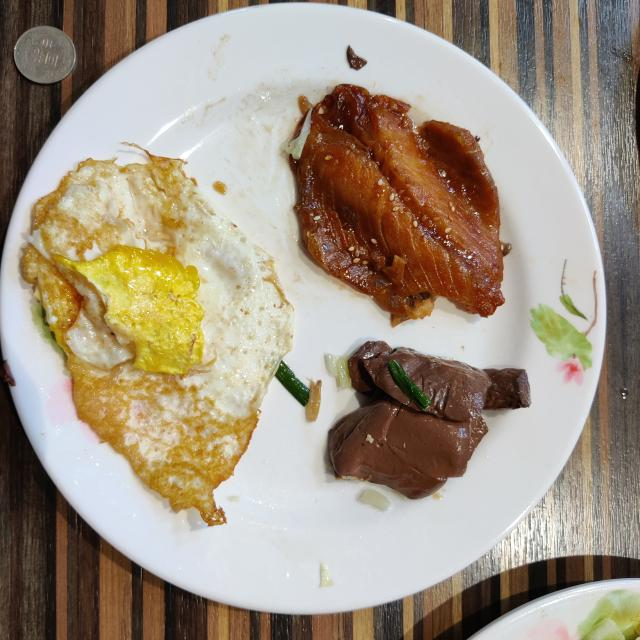Kabayaki sea bream fillet: (290, 85, 505, 324)
coin: (14, 26, 76, 84)
pig blood curd: (329, 341, 529, 499)
